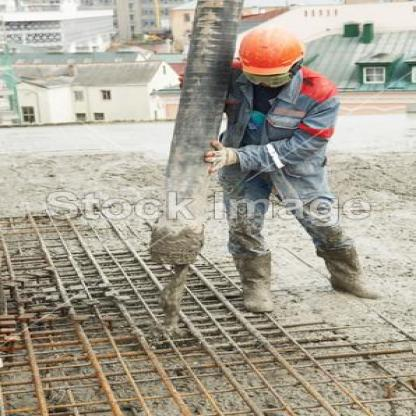helmet: (230, 14, 313, 92)
